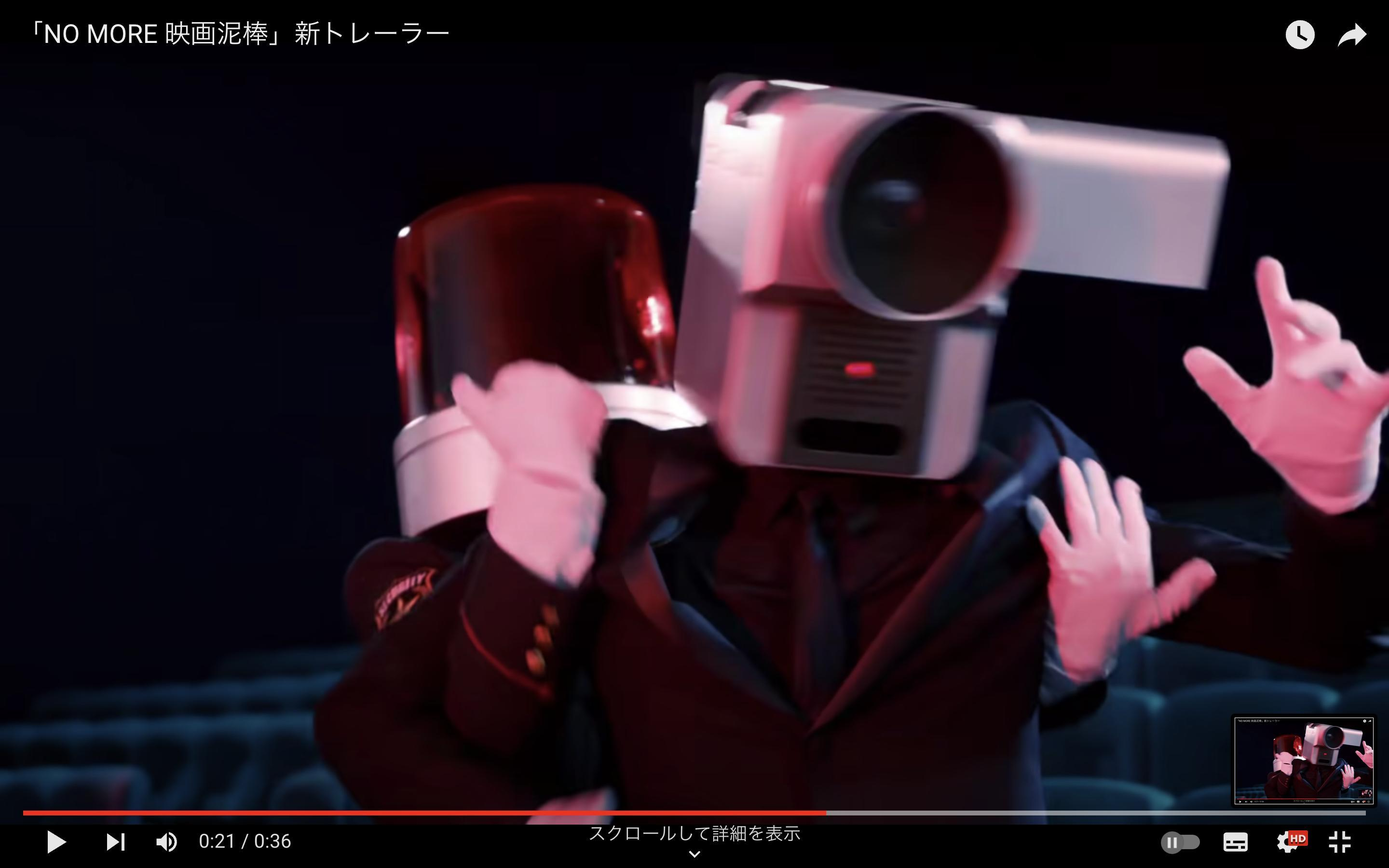no more kid: (675, 61, 1239, 487)
